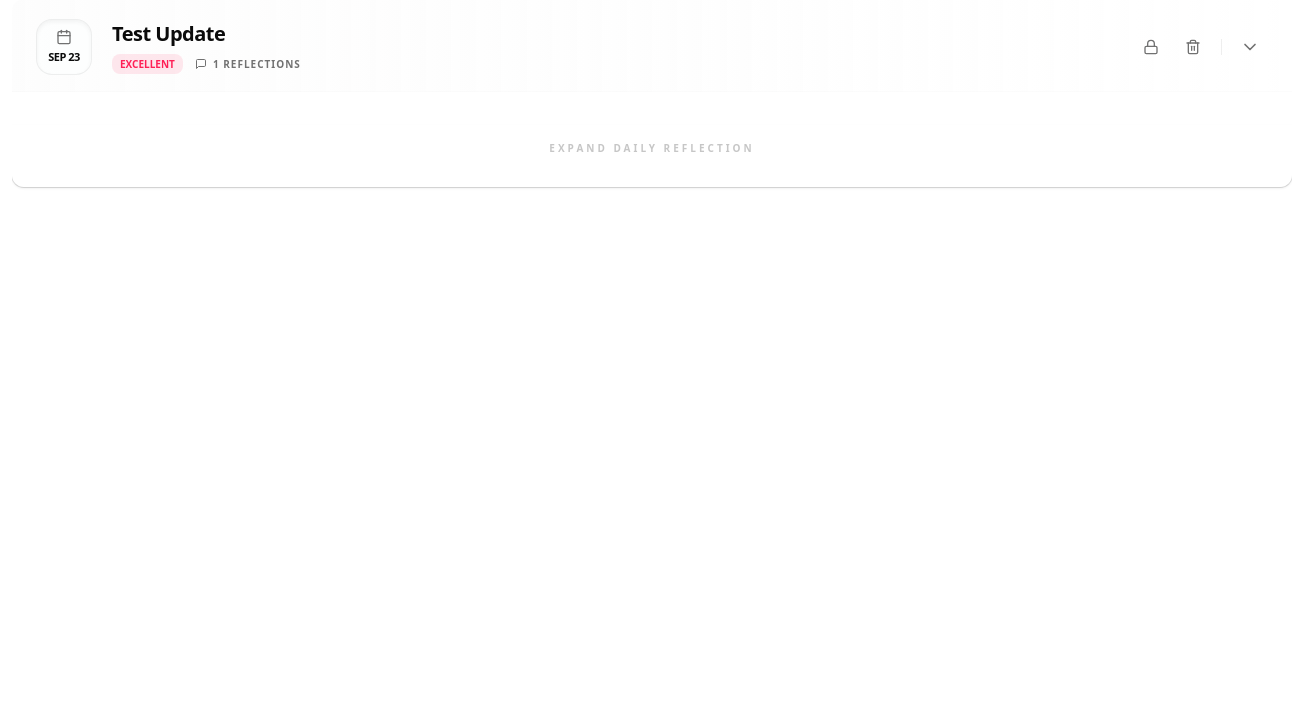
it: UpdateCard › can expand to view content
# Initially content might be in DOM but we can test interactions
Click the button "Expand Daily Reflection" at (652, 148), box [12,124,1292,171]
(page scrolled)
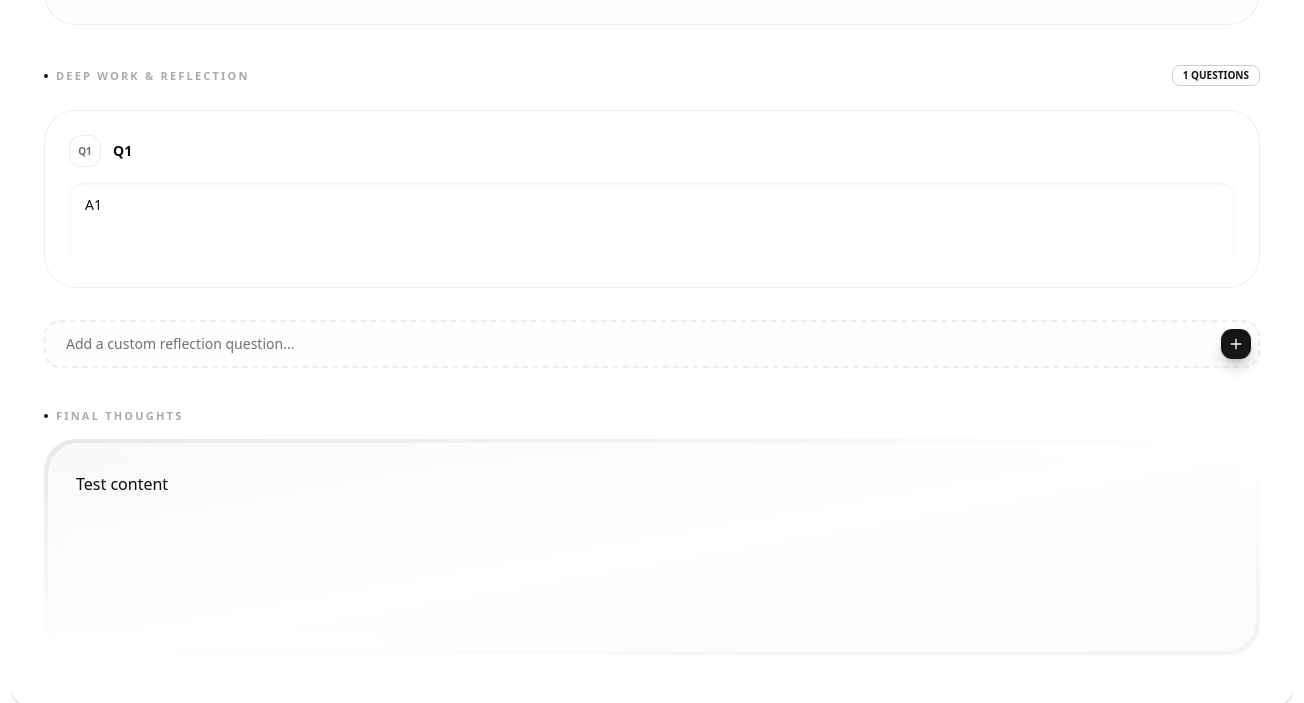
Expected: the text box "Test content" below "Final Thoughts" is shown, [52,447,1252,647]
